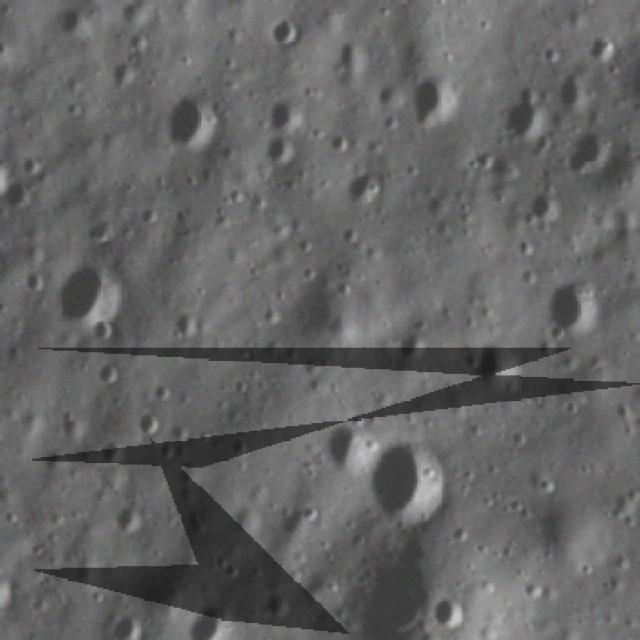crater: (370, 430, 452, 525), (60, 250, 122, 342), (163, 88, 223, 143), (498, 73, 547, 138), (548, 271, 600, 332), (412, 69, 458, 134), (472, 336, 525, 387), (321, 427, 377, 468), (570, 125, 616, 173), (396, 316, 436, 364), (186, 602, 237, 638), (350, 162, 385, 212), (556, 66, 593, 111), (45, 7, 97, 39), (526, 184, 563, 221), (266, 12, 303, 48), (432, 593, 468, 630), (108, 605, 148, 638), (258, 134, 299, 166), (112, 498, 148, 534), (277, 502, 306, 542), (263, 102, 303, 129), (171, 310, 203, 341), (5, 178, 33, 213), (104, 62, 138, 90), (134, 403, 157, 437), (264, 590, 294, 616), (332, 119, 354, 153), (21, 149, 50, 174)
